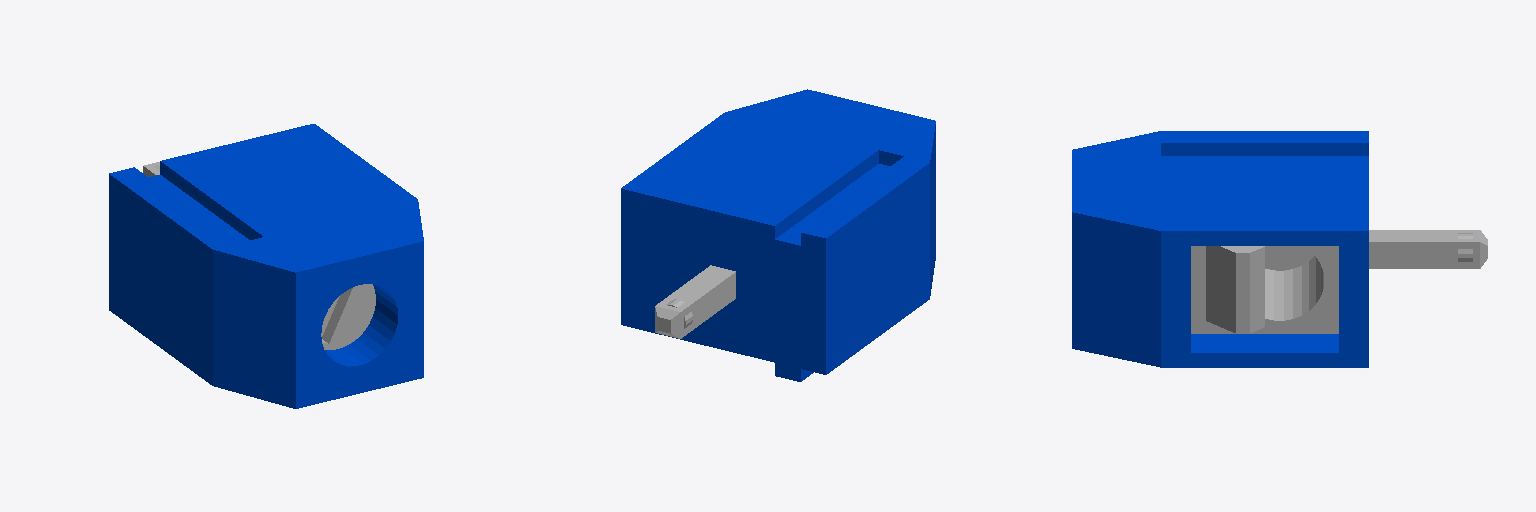
File: Schraubklemme_Blau_300V_16A.obj
3 renders of one model, left to right at view 1: azimuth 30°, elevation 25°; view 2: azimuth 150°, elevation 25°; view 3: azimuth 270°, elevation 25°, orthographic.
Parts seen in each view (by area): view 1: Volumenk&ouml;rper2; view 2: Volumenk&ouml;rper2; view 3: Volumenk&ouml;rper2.
Boxes of the visible parts, x1,y1,x2,y2 form: Volumenk&ouml;rper2: [109, 124, 423, 408]; Volumenk&ouml;rper2: [621, 89, 935, 381]; Volumenk&ouml;rper2: [1072, 131, 1487, 367].
Bounding box in the file's own units: 8 × 5.58 × 14.